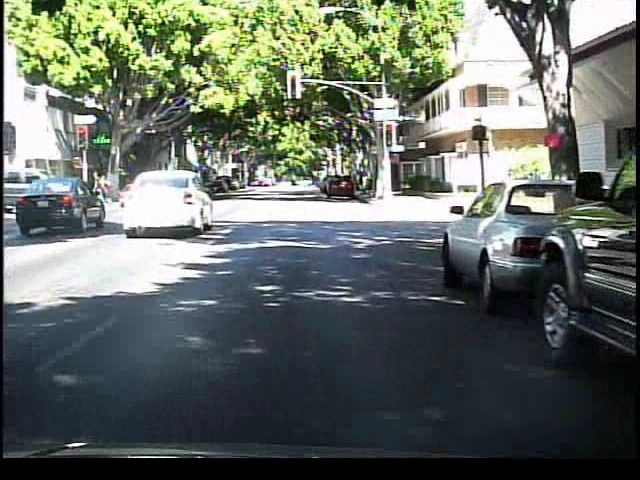person: (91, 163, 116, 206)
